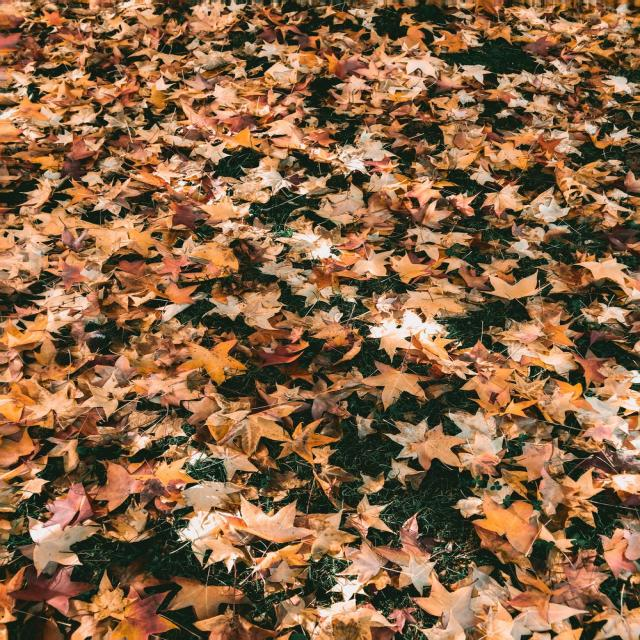organic waste: (460, 444, 587, 564), (330, 186, 462, 283), (424, 571, 596, 640), (192, 503, 341, 582), (137, 154, 248, 242), (1, 213, 116, 297), (365, 295, 484, 374), (198, 396, 322, 465), (1, 371, 119, 441), (209, 282, 312, 358), (2, 99, 102, 170), (534, 8, 626, 78), (72, 1, 168, 65), (346, 51, 433, 112)
